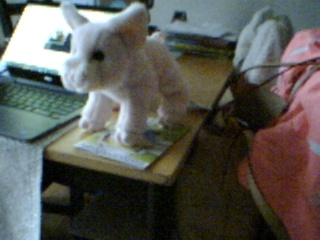piggy: (58, 2, 191, 147)
